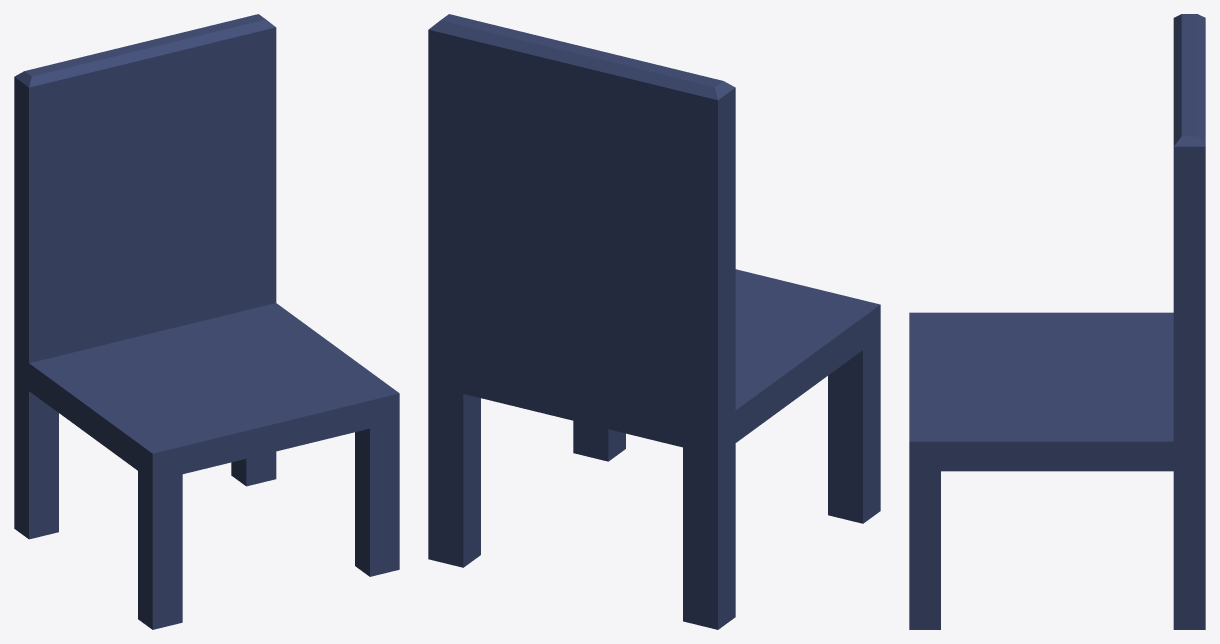
Rendered from Chair.fbx.
3 renders of one model, left to right at view 1: azimuth 30°, elevation 25°; view 2: azimuth 150°, elevation 25°; view 3: azimuth 270°, elevation 25°, orthographic. The views are drawn at different scales.
Parts seen in each view (by area): view 1: Chair; view 2: Chair; view 3: Chair.
Boxes of the visible parts, x1,y1,x2,y2 form: Chair: (14, 14, 399, 629); Chair: (428, 14, 880, 629); Chair: (909, 14, 1205, 629).
Bounding box in the file's own units: 0.7097 × 1.26 × 0.689.
